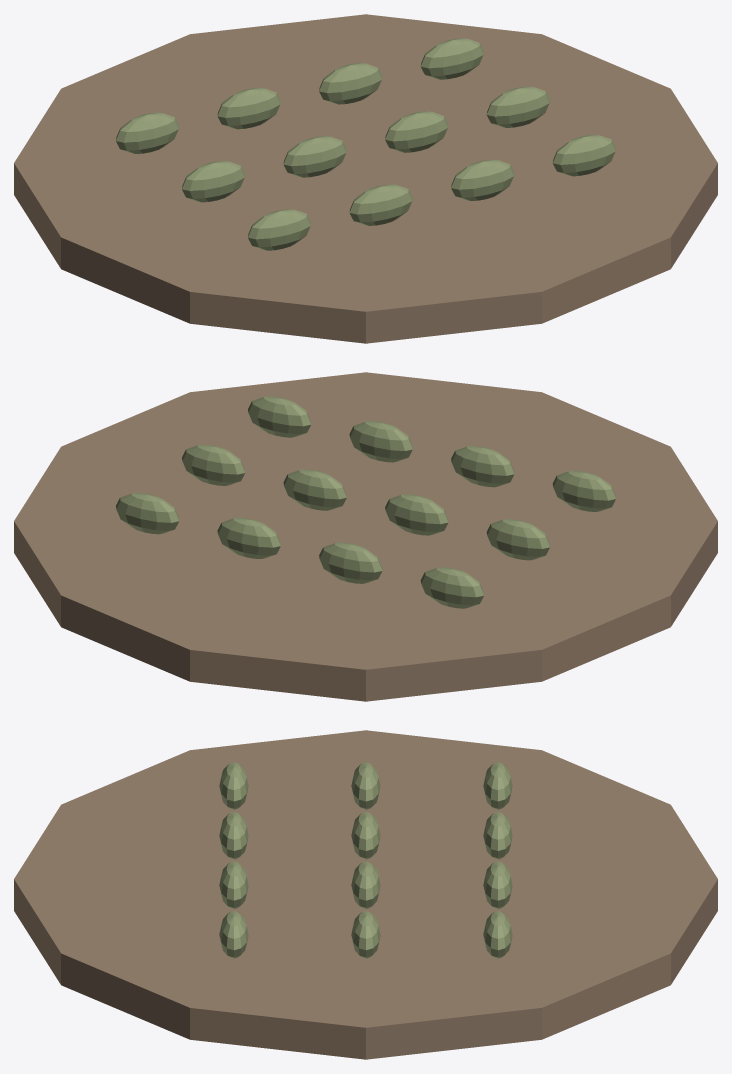
File: PR-HERBS.glb
3 renders of one model, top to bottom at view 1: azimuth 30°, elevation 25°; view 2: azimuth 150°, elevation 25°; view 3: azimuth 270°, elevation 25°, orthographic.
Visible parts, largest first — view 1: container, herb (×12); view 2: container, herb (×12); view 3: container, herb (×12).
Boxes of the visible parts, left/top/right/bottom form: container: left=14, top=14, right=717, bottom=343; herb (×12): left=116, top=38, right=615, bottom=250; container: left=14, top=372, right=717, bottom=701; herb (×12): left=116, top=396, right=615, bottom=608; container: left=14, top=730, right=717, bottom=1059; herb (×12): left=219, top=762, right=512, bottom=958.
Bounding box in the file's own units: 0.24 × 0.026 × 0.24.
